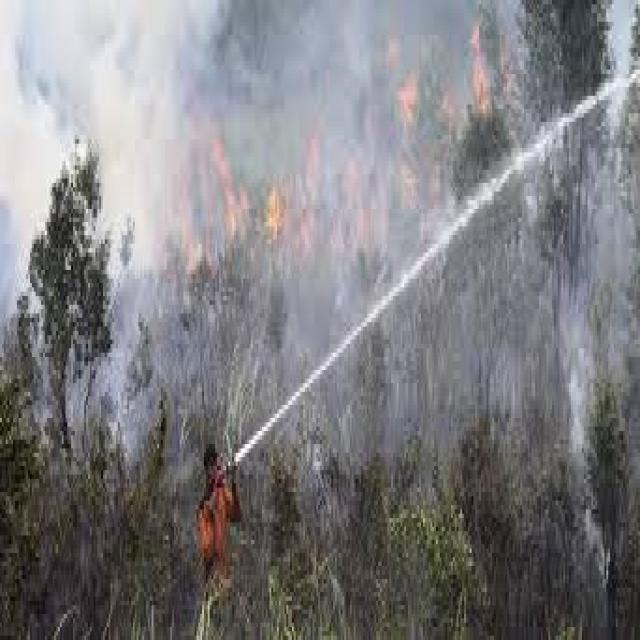Fire: (150, 49, 503, 230)
